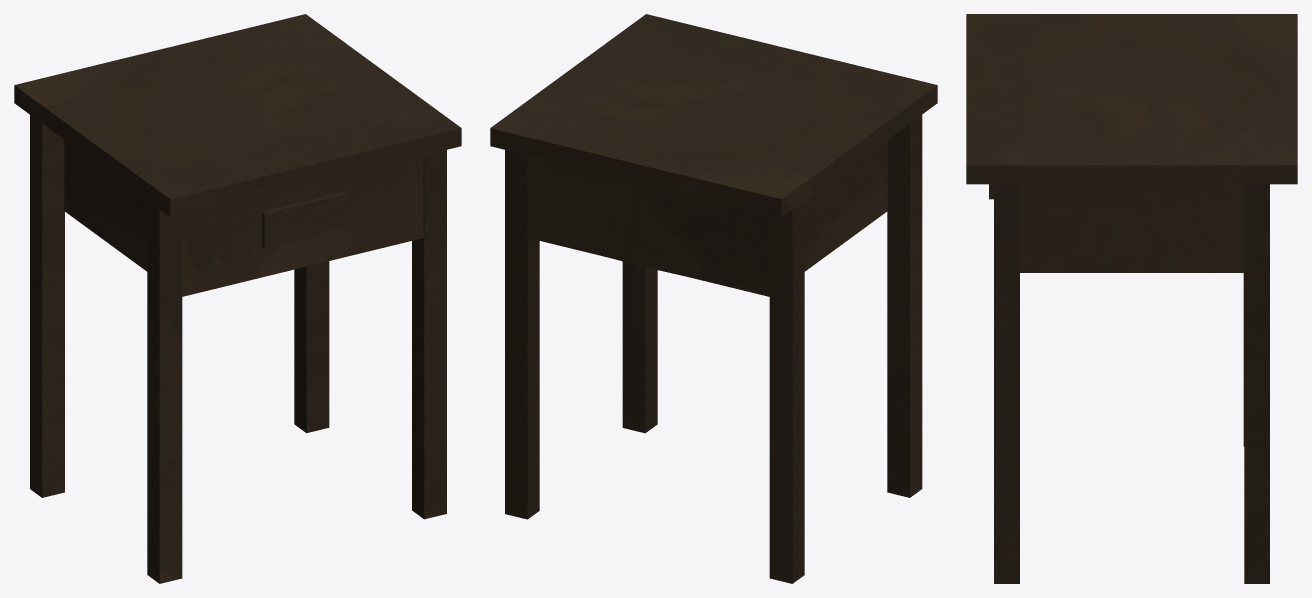
Rendered from Livingroom_smalltable.fbx.
3 views of the same model, side by side, from view 1: azimuth 30°, elevation 25°; view 2: azimuth 150°, elevation 25°; view 3: azimuth 270°, elevation 25° (orthographic). The views are drawn at different scales.
Parts seen in each view (by area): view 1: pCube19; view 2: pCube19; view 3: pCube19.
Part boxes in pixels (x1=…): pCube19: x1=14, y1=14, x2=461, y2=583; pCube19: x1=490, y1=14, x2=937, y2=583; pCube19: x1=966, y1=14, x2=1297, y2=583.
Bounding box in the file's own units: 0.0336 × 0.0435 × 0.0311.
